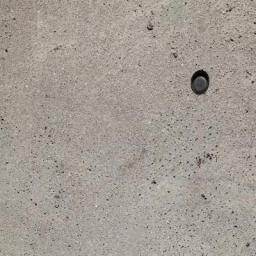FOD: (187, 67, 214, 98)
